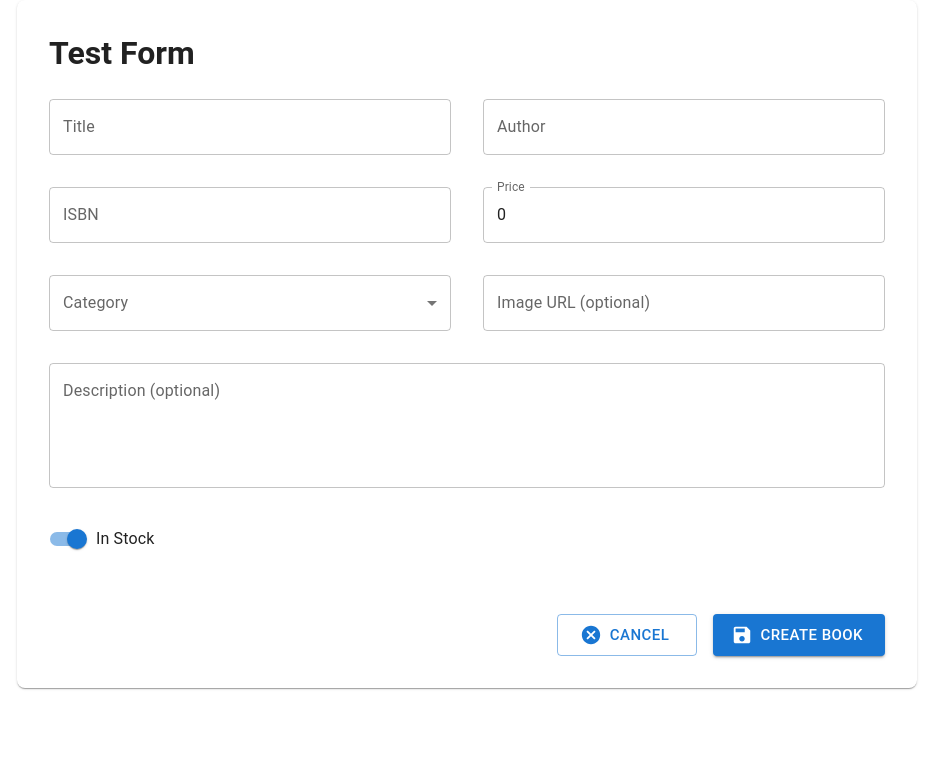
Scenario: BookForm › validates price is positive
Replace the text in the number field labelled "Price" with "-10" at [684, 215], box [483,187,885,243]
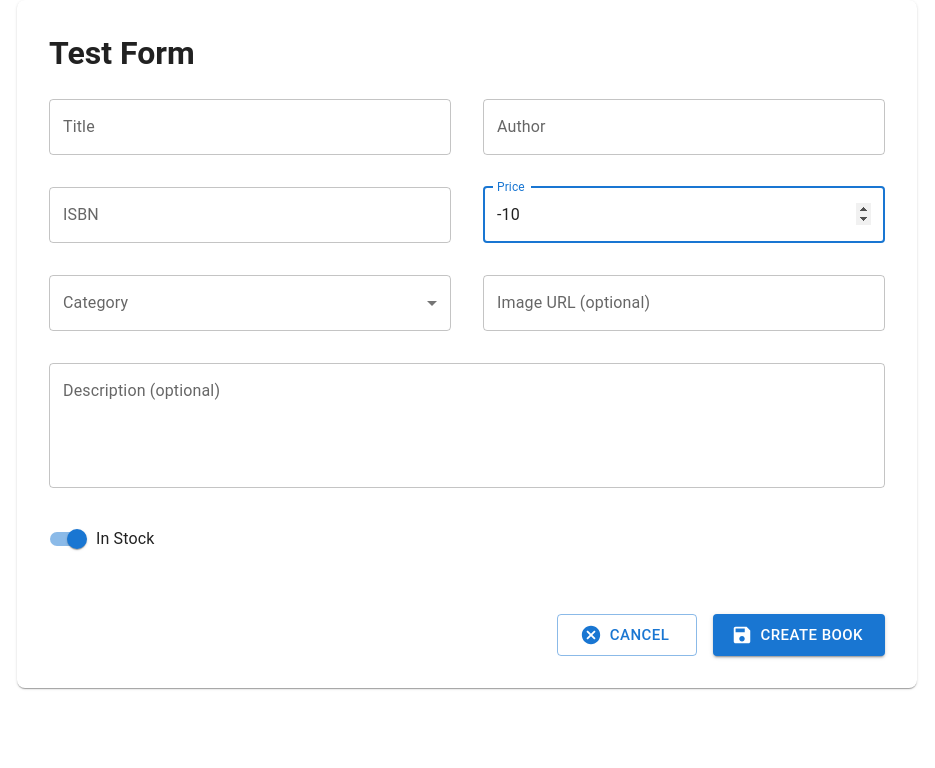
Click the button "Create Book" at [799, 635], box [713,614,885,656]
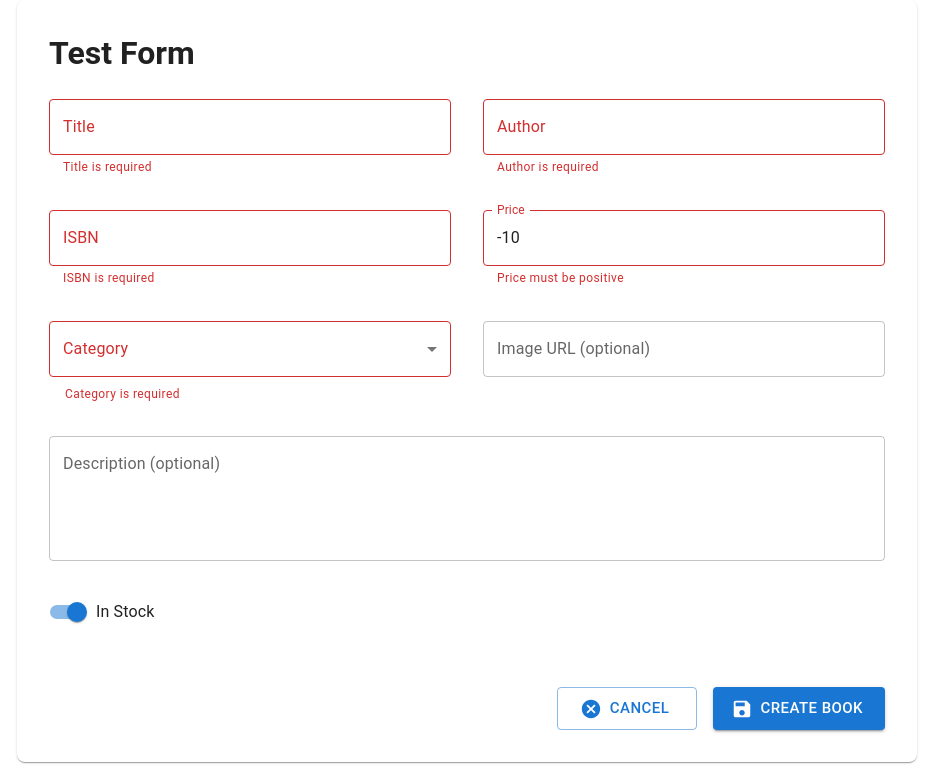
Result: the text "Price must be positive" is shown at [497,271,624,285]
